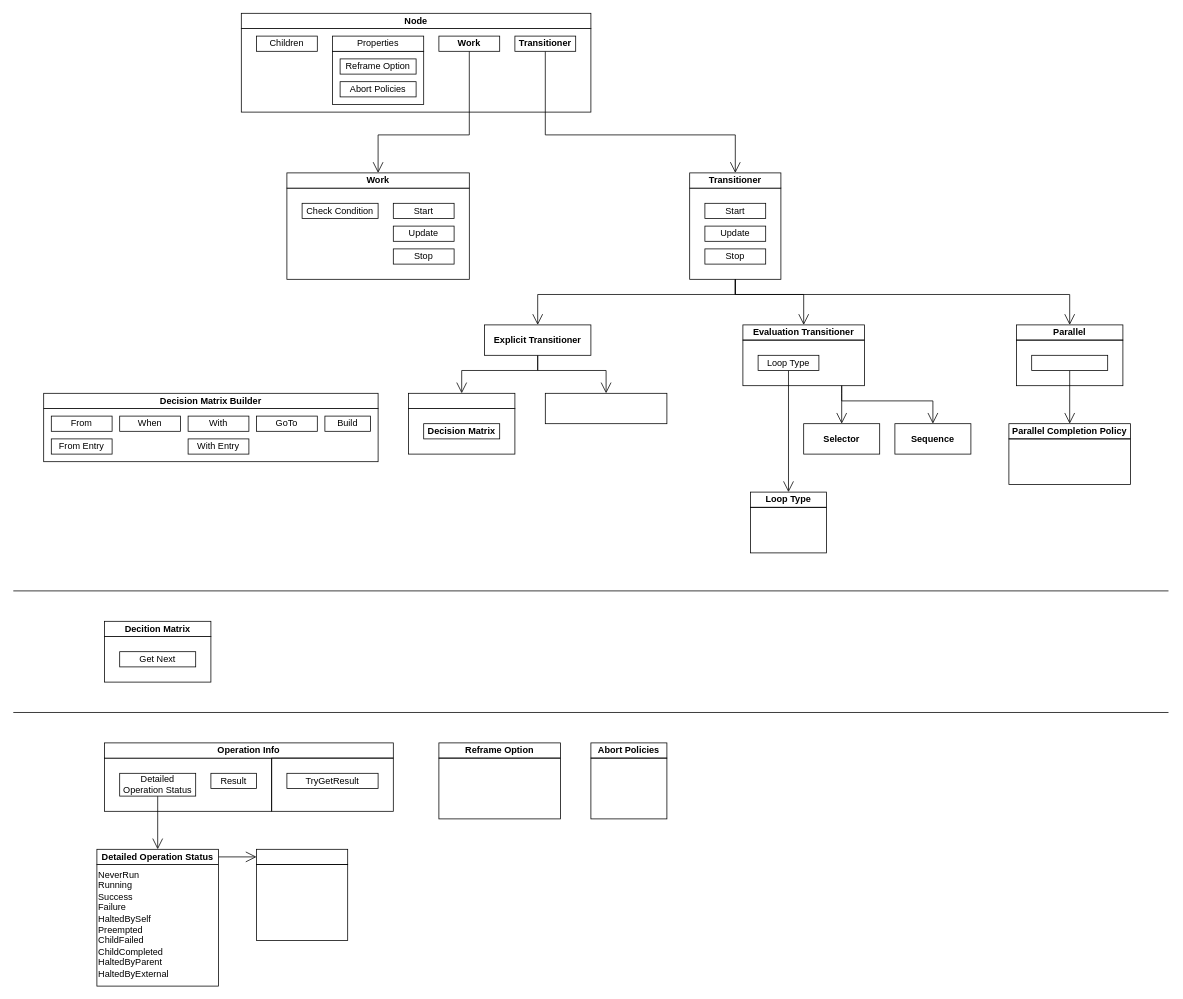
Image size: 1183x999. Some labels were removed from this diagram. Here are the shapes that lost their labels. From the top down, the centre of each, then its label:
At (x=1069, y=362): "Completion Policy".
At (x=461, y=400): "Matrix Transitioner".
At (x=606, y=408): "Direct Transitioner".
At (x=1069, y=461): "All Any".
At (x=788, y=530): "None Conditional Forced".
At (x=499, y=788): "None Update CheckConditionThenUpdate".
At (x=628, y=788): "None Self LowerPriority StopOnFailure".
At (x=302, y=856): "Operation Status".
At (x=302, y=902): "NeverRun Running Success Failure Halted".
